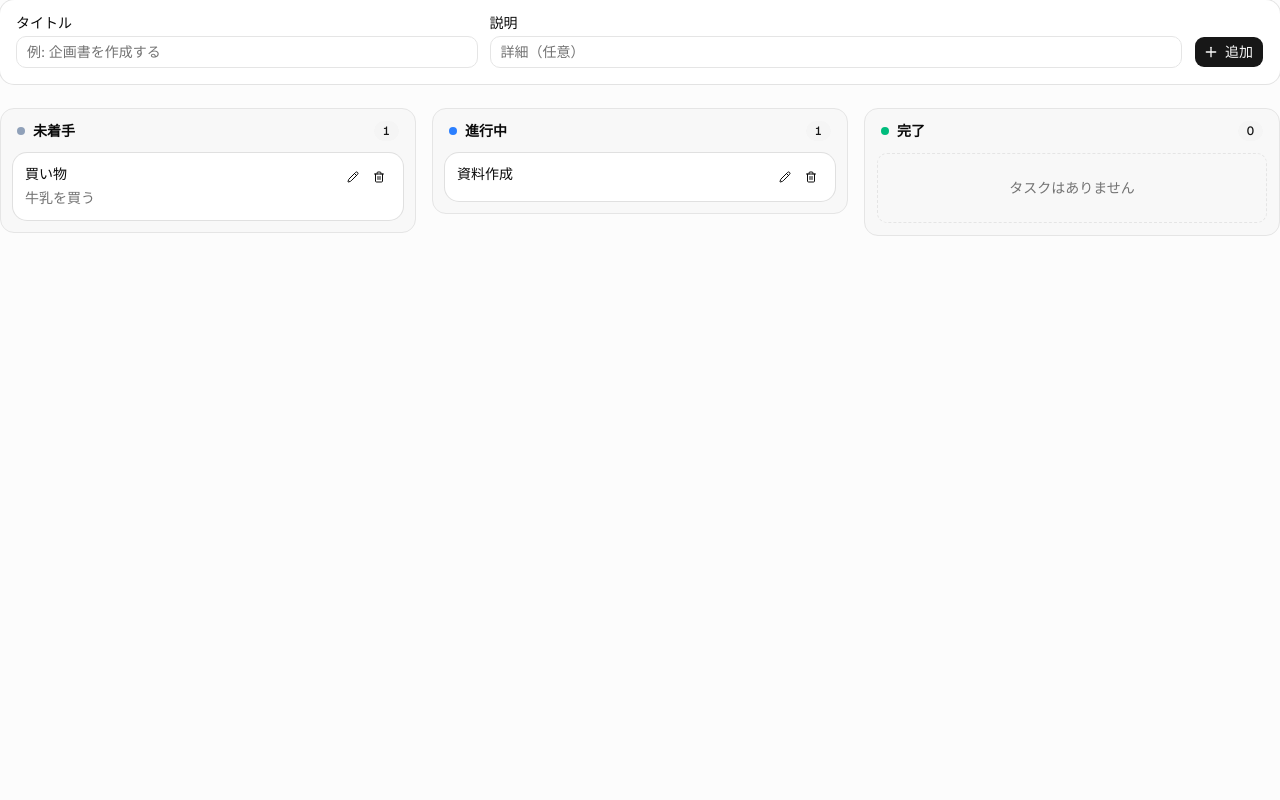
Test: 削除 › 確認ダイアログでキャンセルするとダイアログが閉じタスクは残る
Click the button named "削除" in the row of "買い物".
click(379, 177)  # box [367,165,391,189]
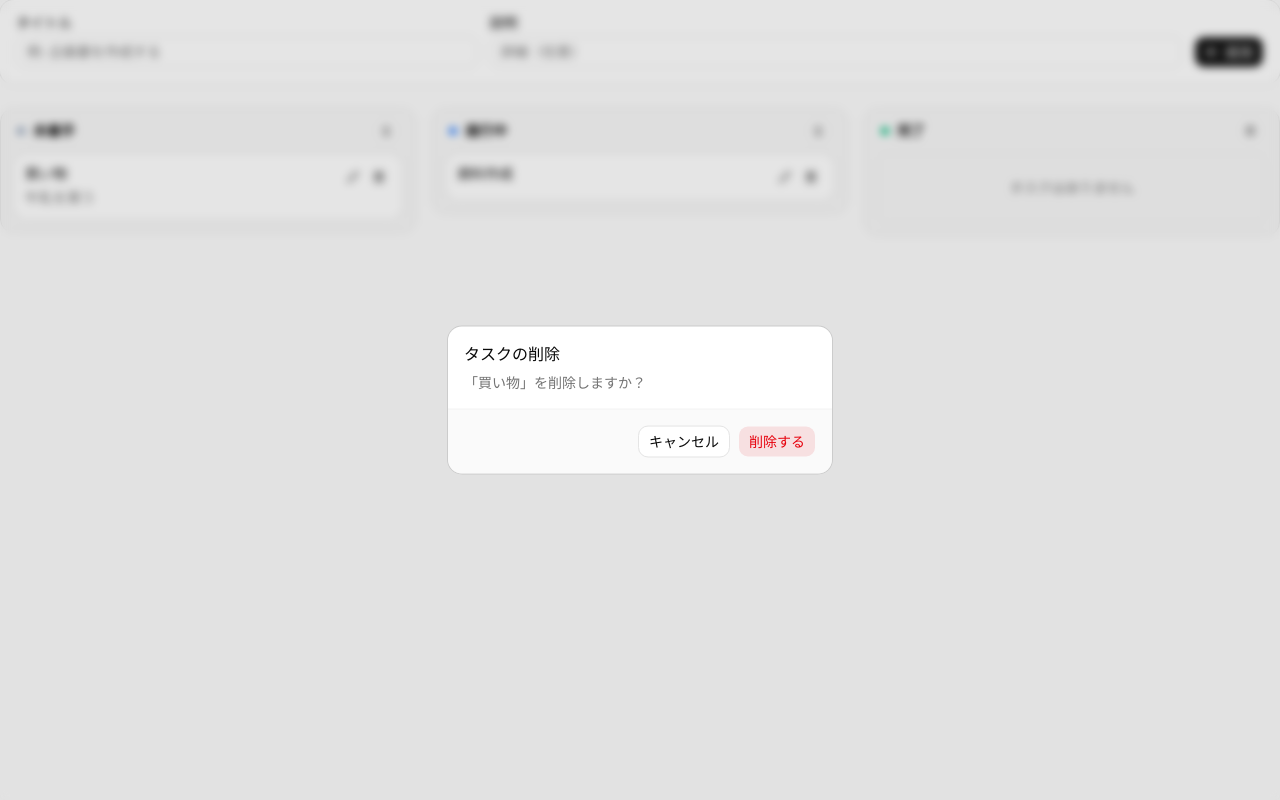
Click the button "キャンセル".
click(684, 442)  # box [638,426,730,458]
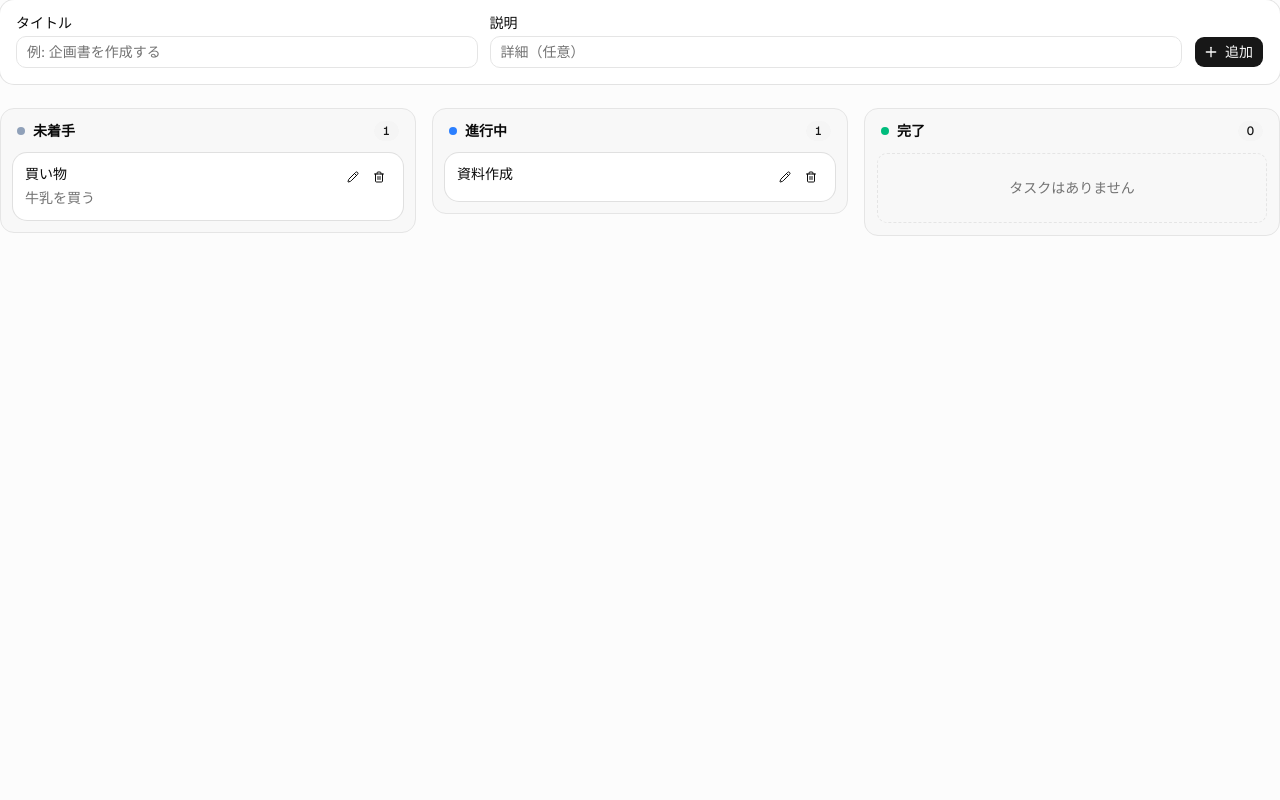
Expected: the element "買い物" is shown, [13,153,403,220]
Expected: the dialog is gone
